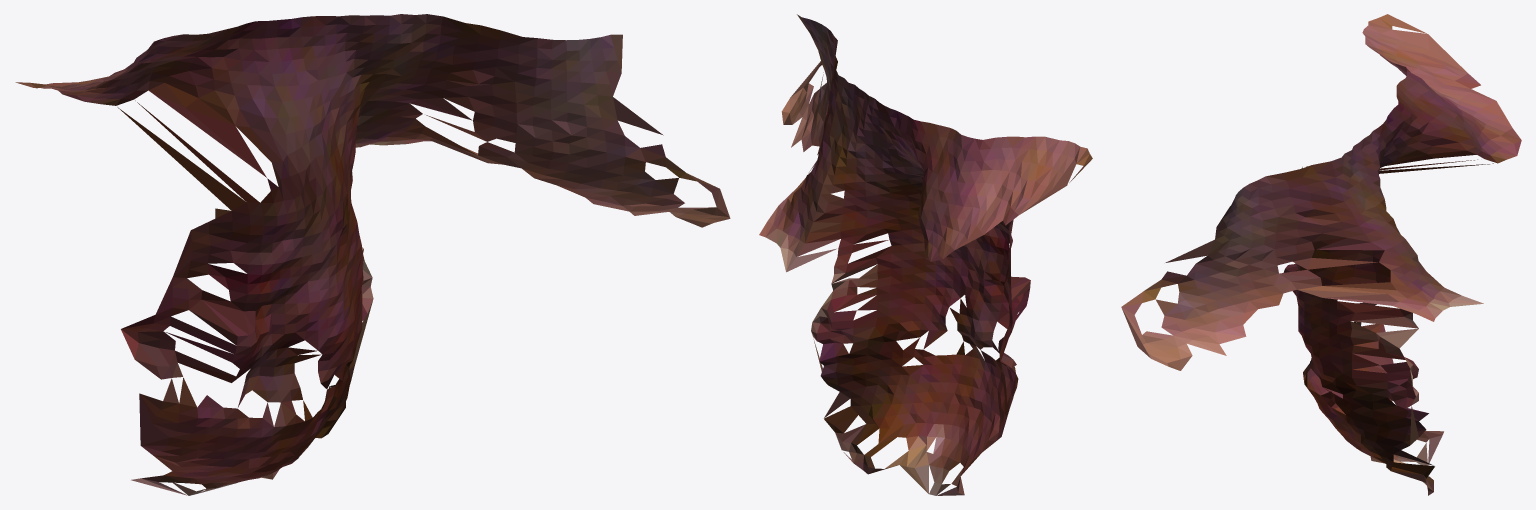
The picture shows the model from 3 angles, left to right: view 1: azimuth 30°, elevation 25°; view 2: azimuth 150°, elevation 25°; view 3: azimuth 270°, elevation 25°; orthographic projection. The views are drawn at different scales.
Visible parts, largest first — view 1: ofMesh; view 2: ofMesh; view 3: ofMesh.
Part boxes in pixels (x1,y1,x2,y2): ofMesh: (15,14,730,495); ofMesh: (759,14,1092,495); ofMesh: (1121,14,1521,495).
Size of the model in its own units: 342 by 282 by 269.
Materials: 1 (1 with a texture image).
